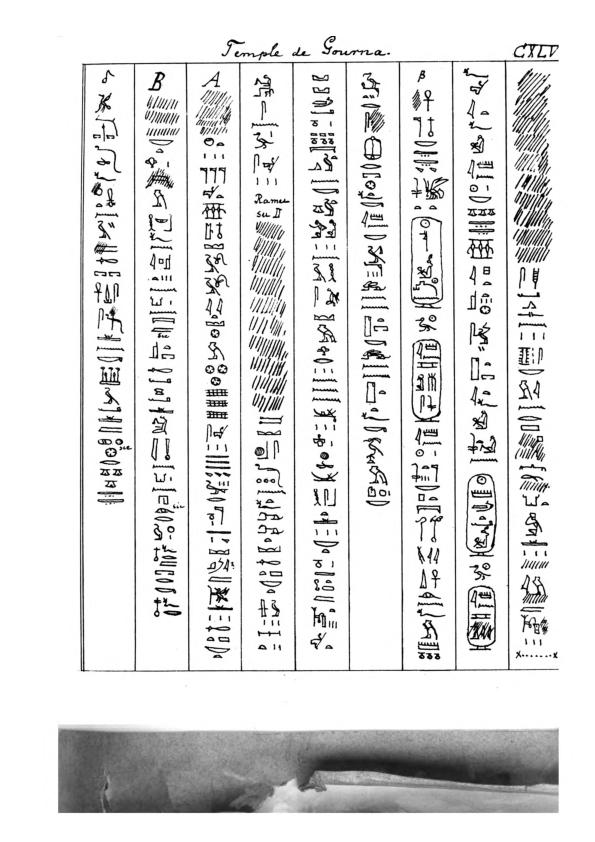circle: (408, 213, 446, 312), (460, 470, 499, 560), (407, 335, 444, 426), (463, 582, 499, 654)
